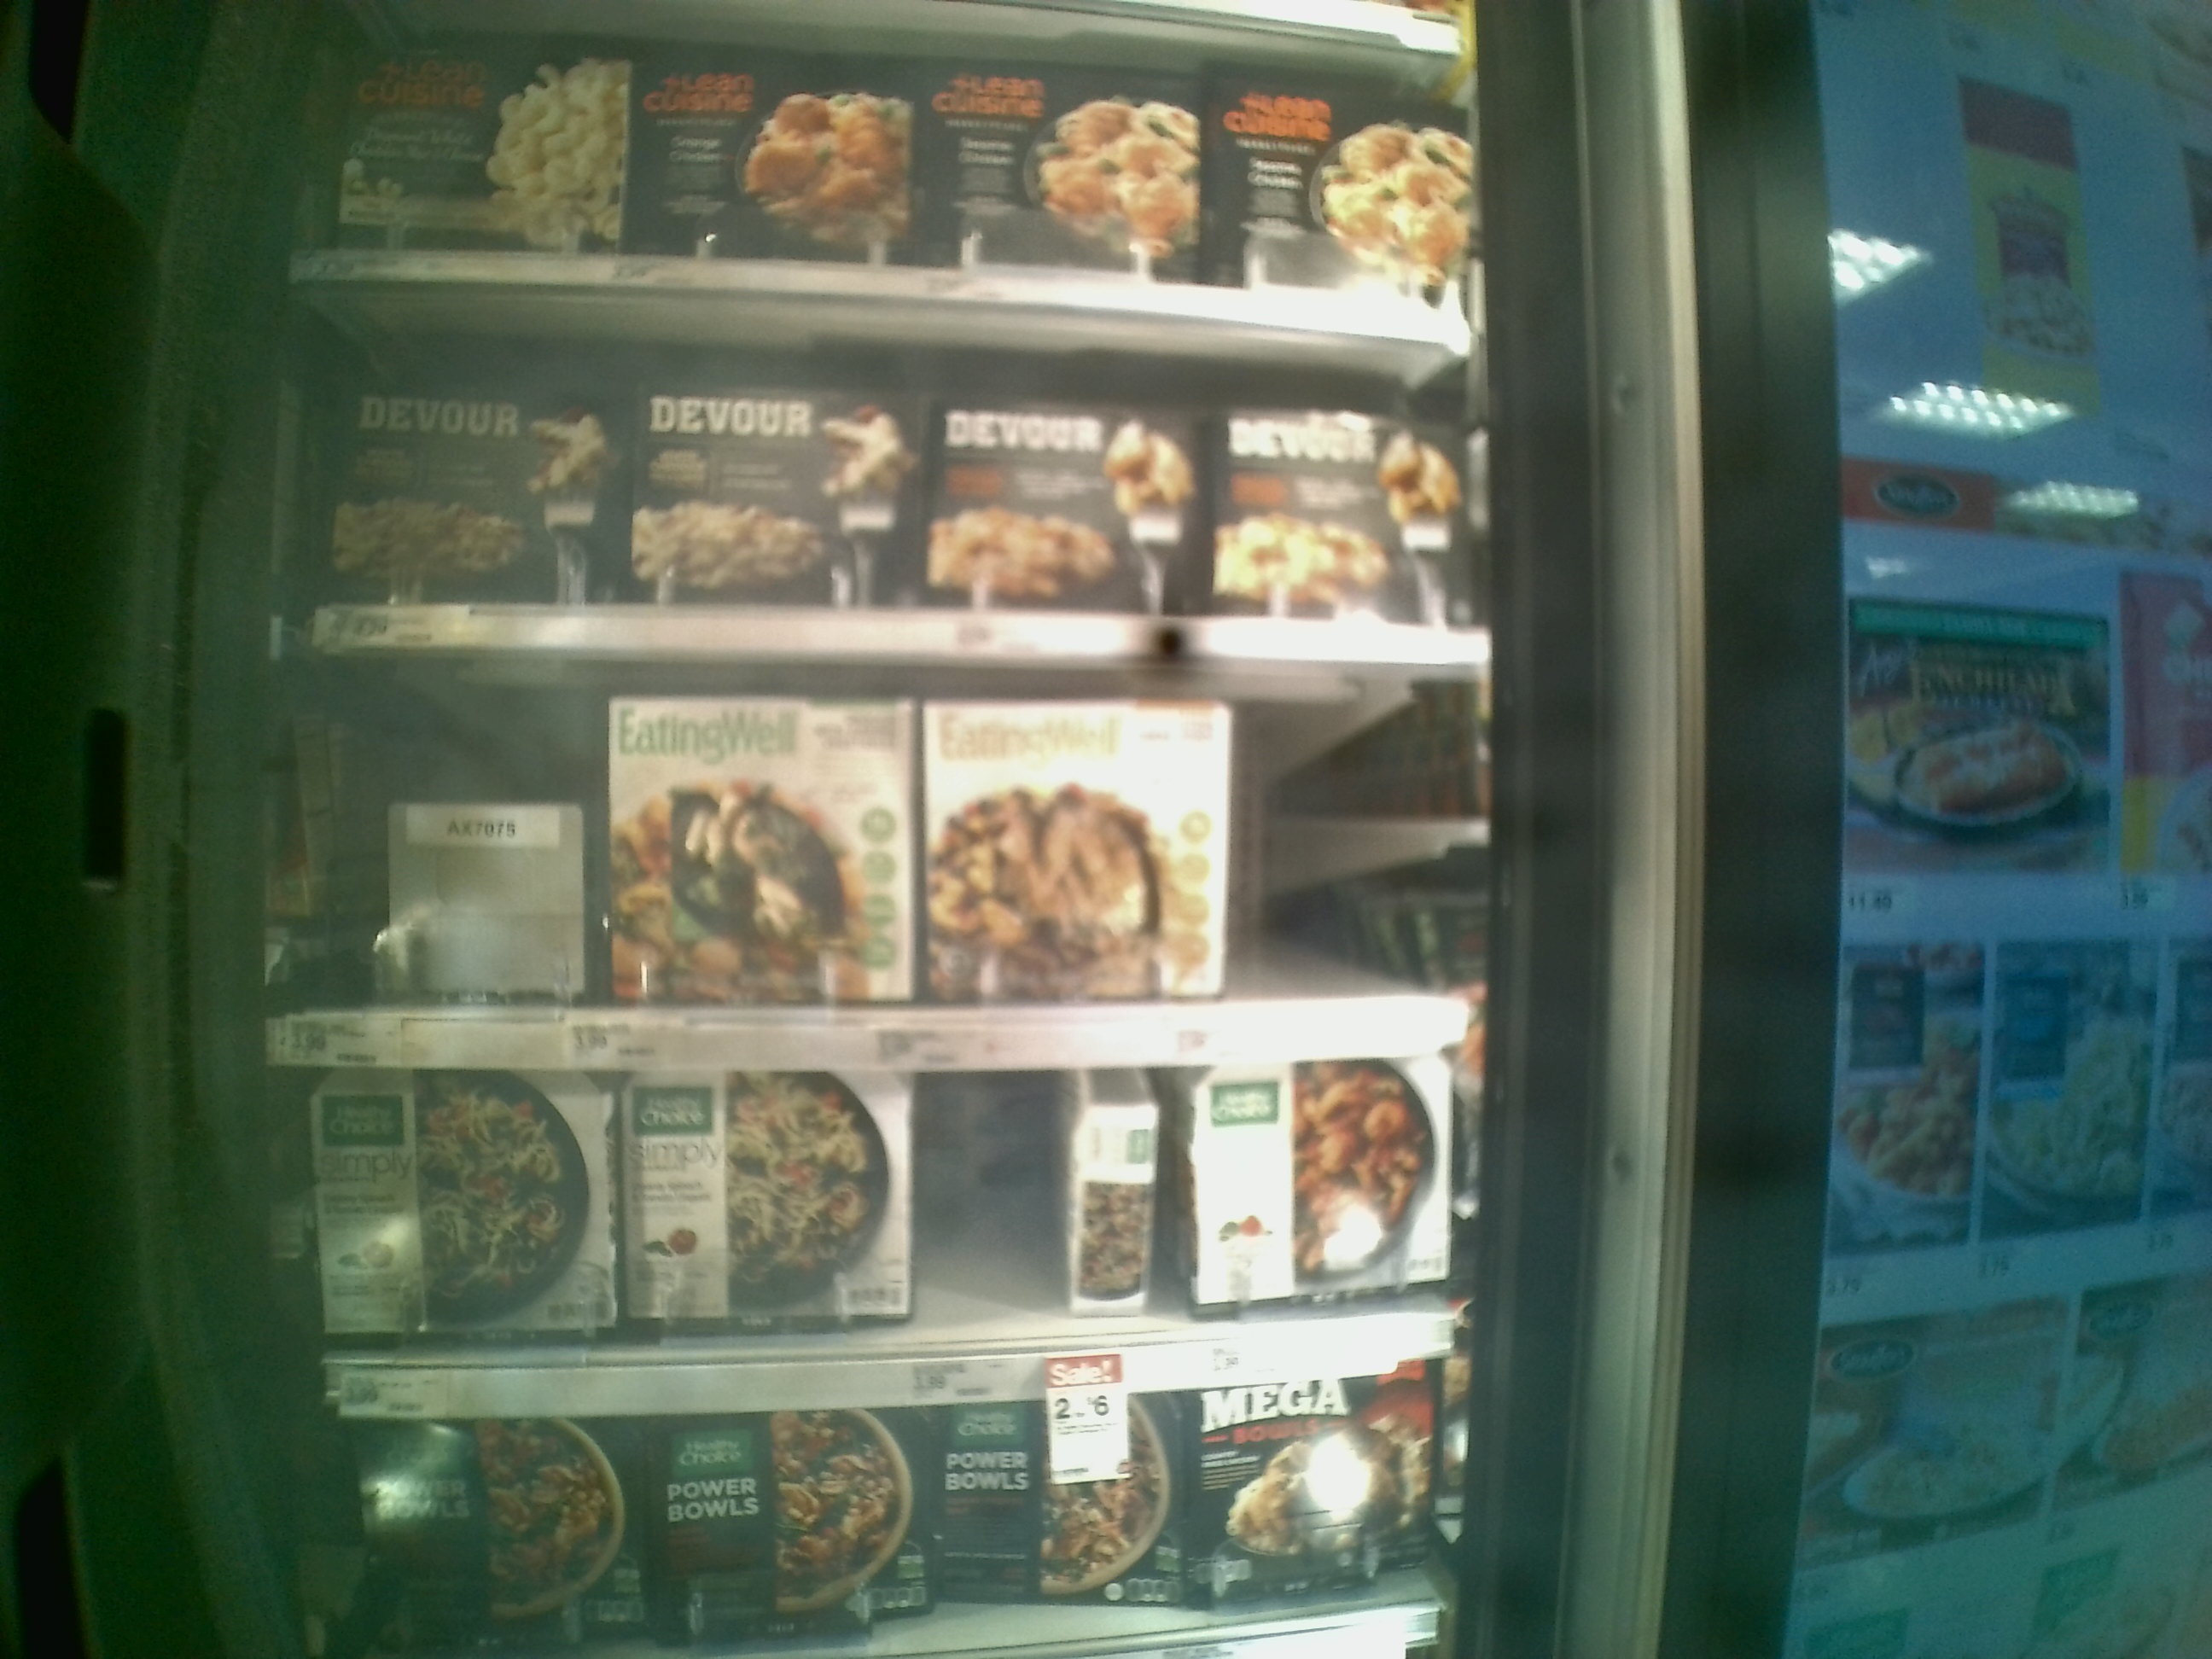shelf: (275, 662, 1479, 1063), (280, 286, 1491, 662), (275, 1070, 1489, 1406)
